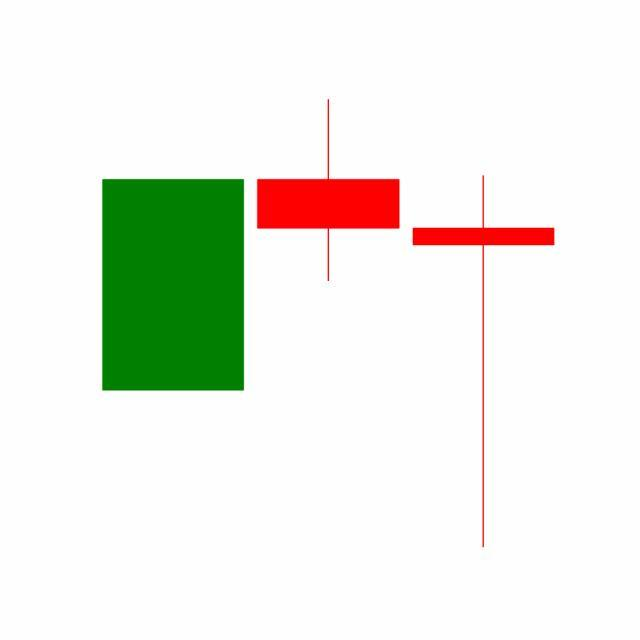Spinning Top: (250, 98, 407, 285)
